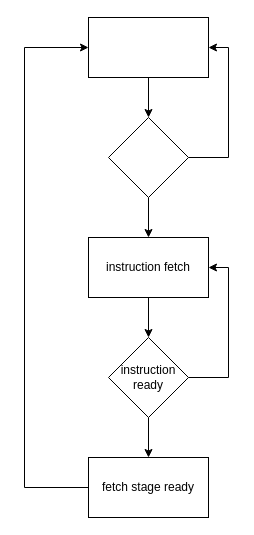
Image size: 254x535. Some labels were removed from this diagram. Each missing label, with the box of its shape:
pipeline step: (108, 116, 188, 198)
step wait: (88, 16, 208, 78)
